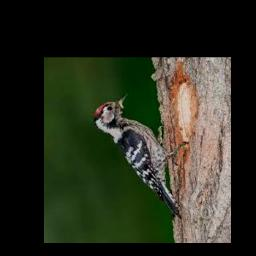Woodpecker: (93, 94, 188, 218)
